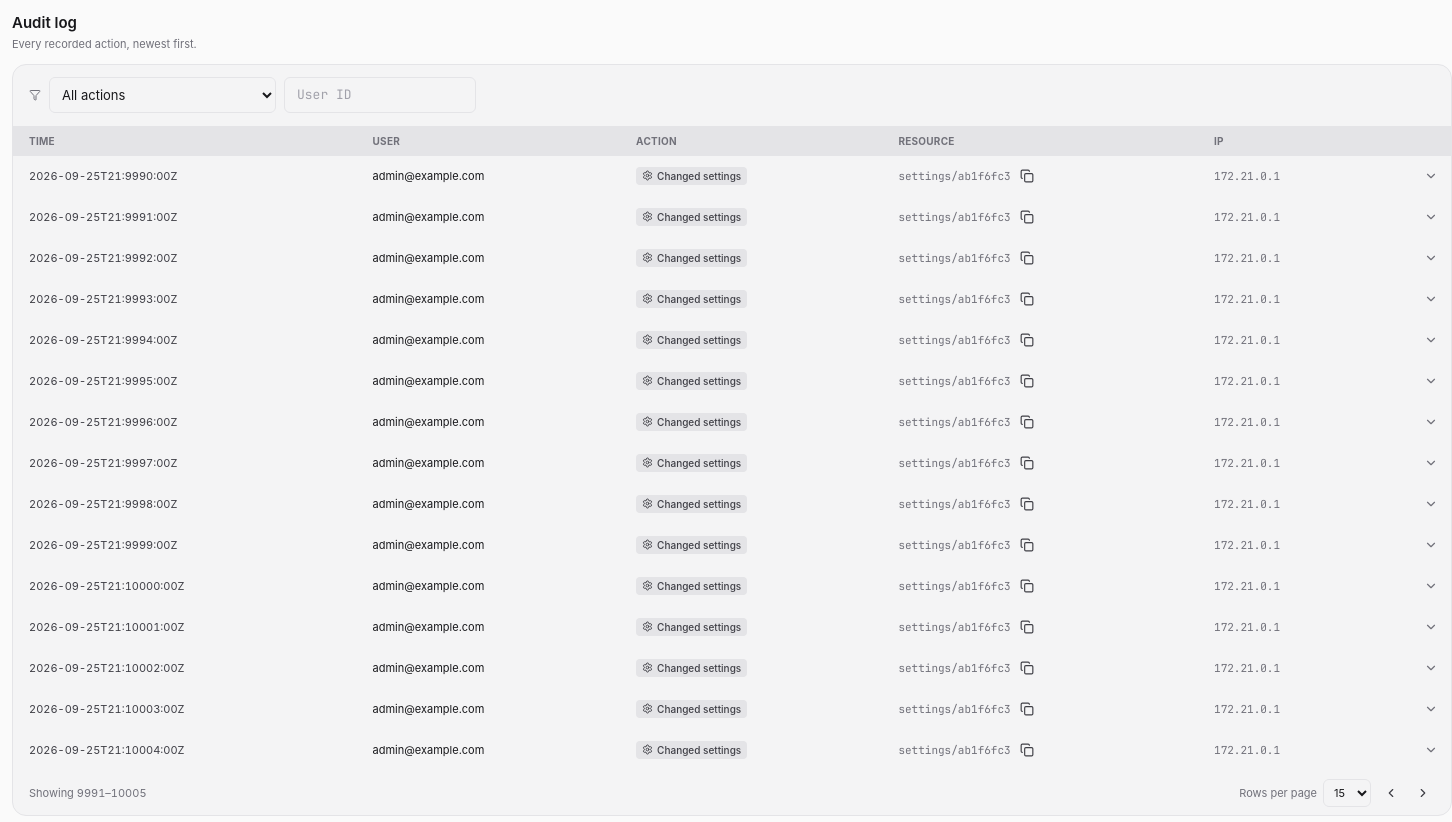
Test case: AuditLogSection › against a server without cursors, keeps a deep full page open until the page after it is empty
The width and height of the screenshot is (1452, 822).
Step 1. Click the button named "Next page" → coordinates (1423, 793), box 1411,781 -> 1435,805
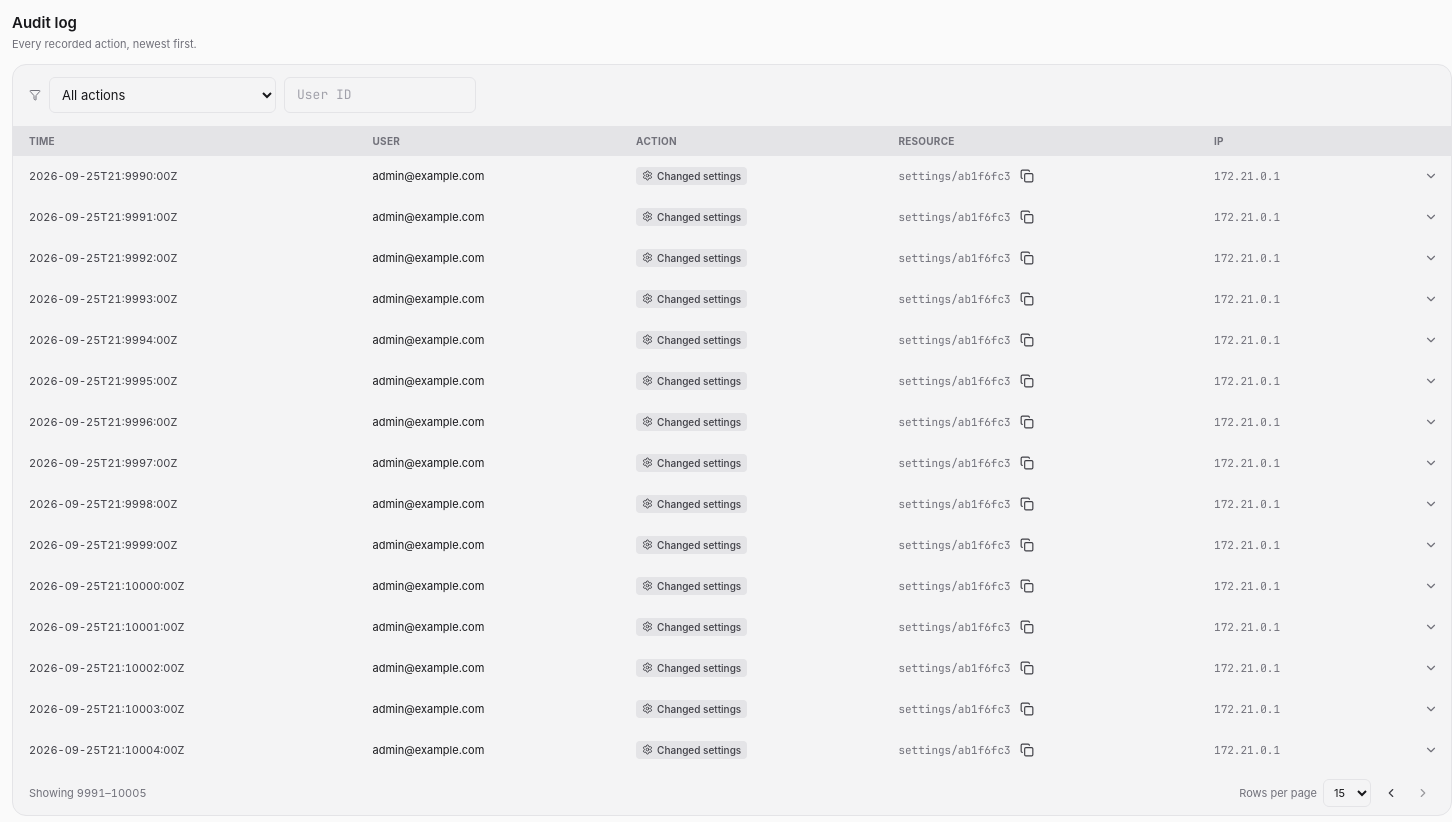
Expected: the navigation bar named "Audit log pagination" shows "Showing 9991–10005", 29,786 -> 146,800
Now the button named "Next page" is disabled, box 1411,781 -> 1435,805
